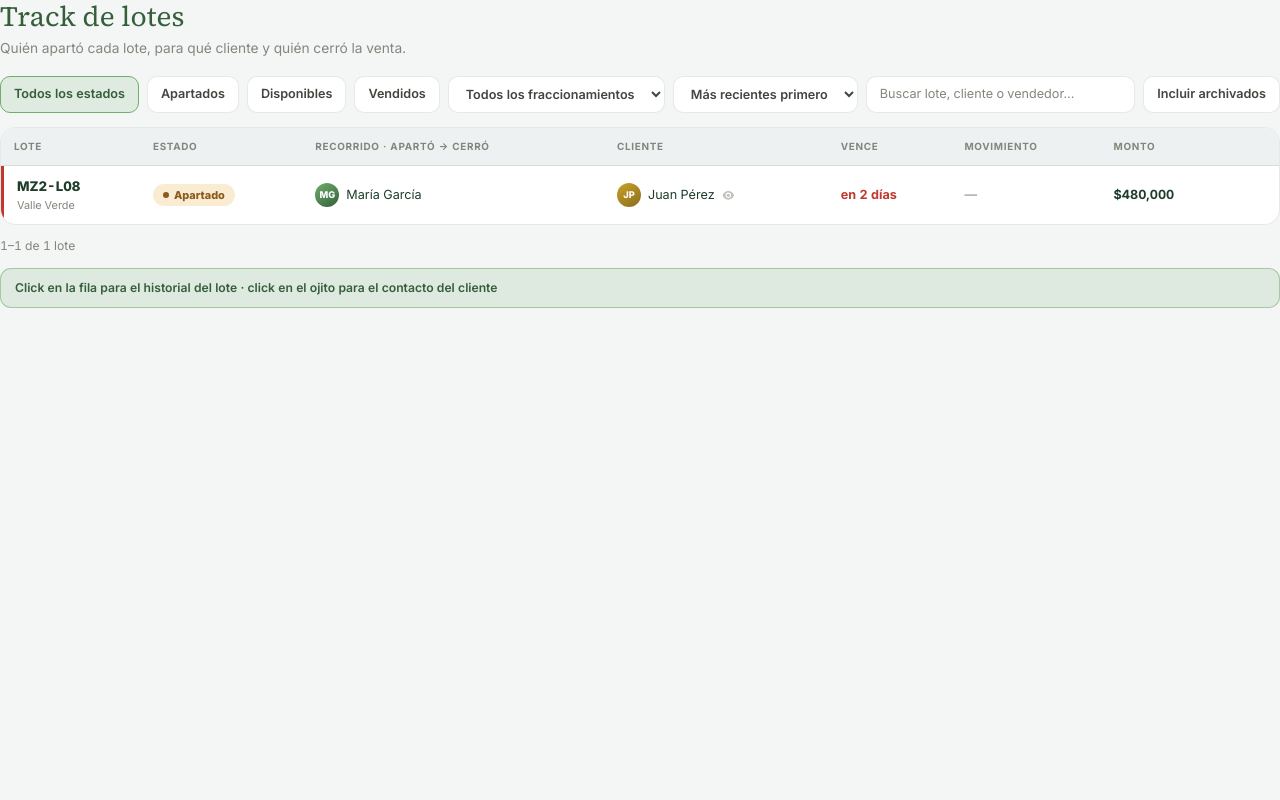
Scenario: Track de lotes › abre el historial al hacer click en la fila
What coordinates should you click on to do the following:
click the text "MZ2-L08"
I would click on:
 (49, 186)
Its box is [17,178,80,194].
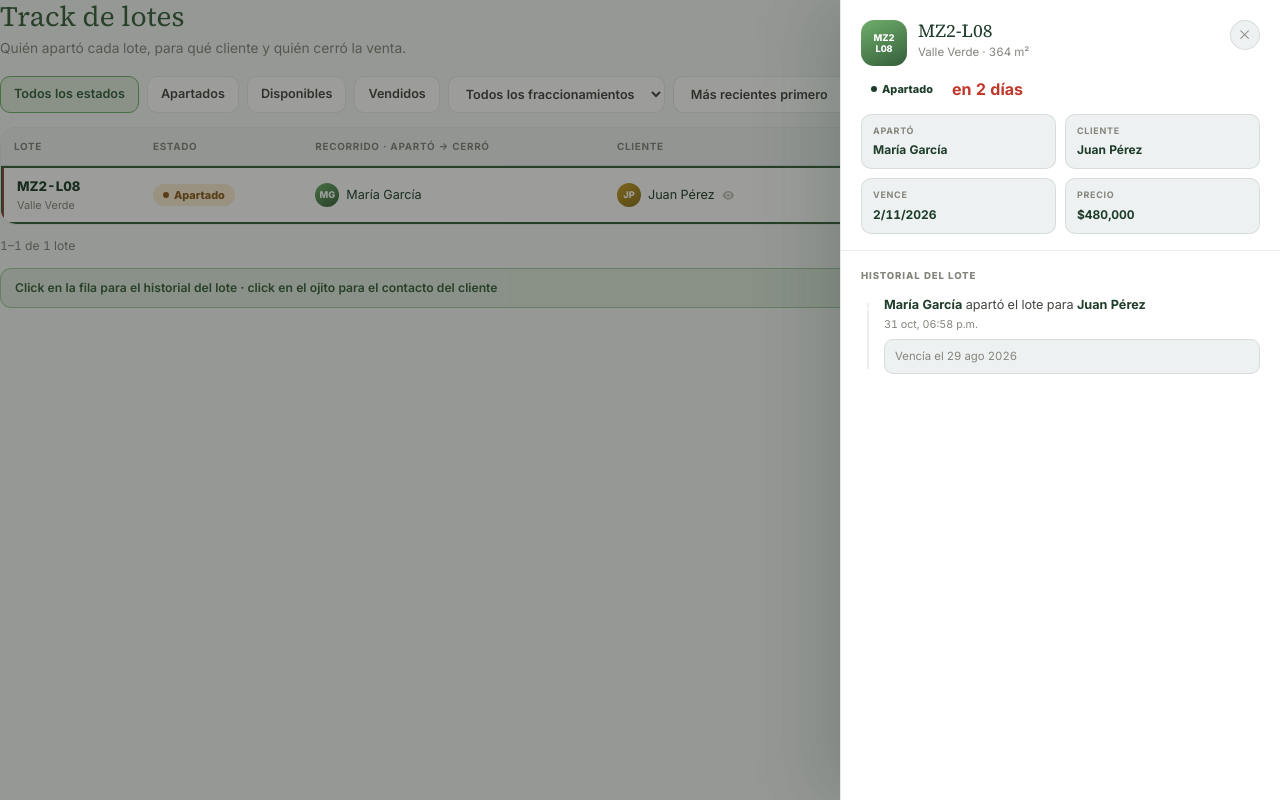
Expected: the text "Historial del lote" is shown, [861,270,976,281]
Expected: the text "María García apartó el lote para Juan Pérez" is shown, [884,297,1146,312]
Expected: the text "Vencía el 29 ago 2026" is shown, [884,339,1260,374]
